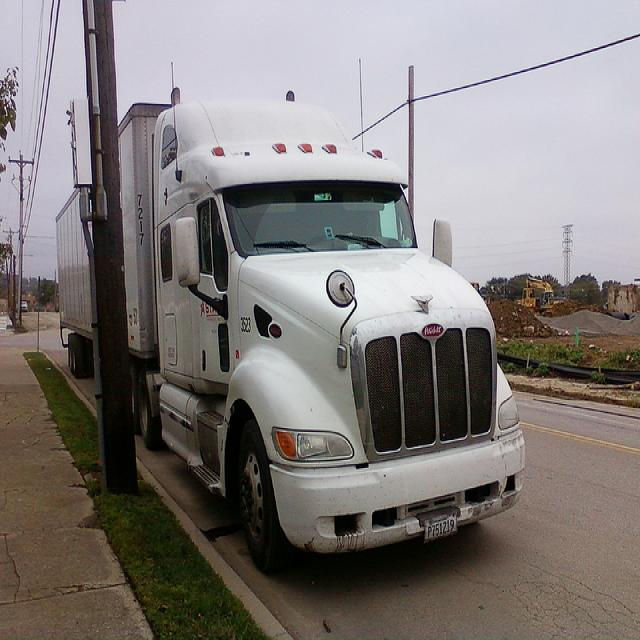Vehicle: (48, 88, 526, 576), (21, 301, 28, 311)
